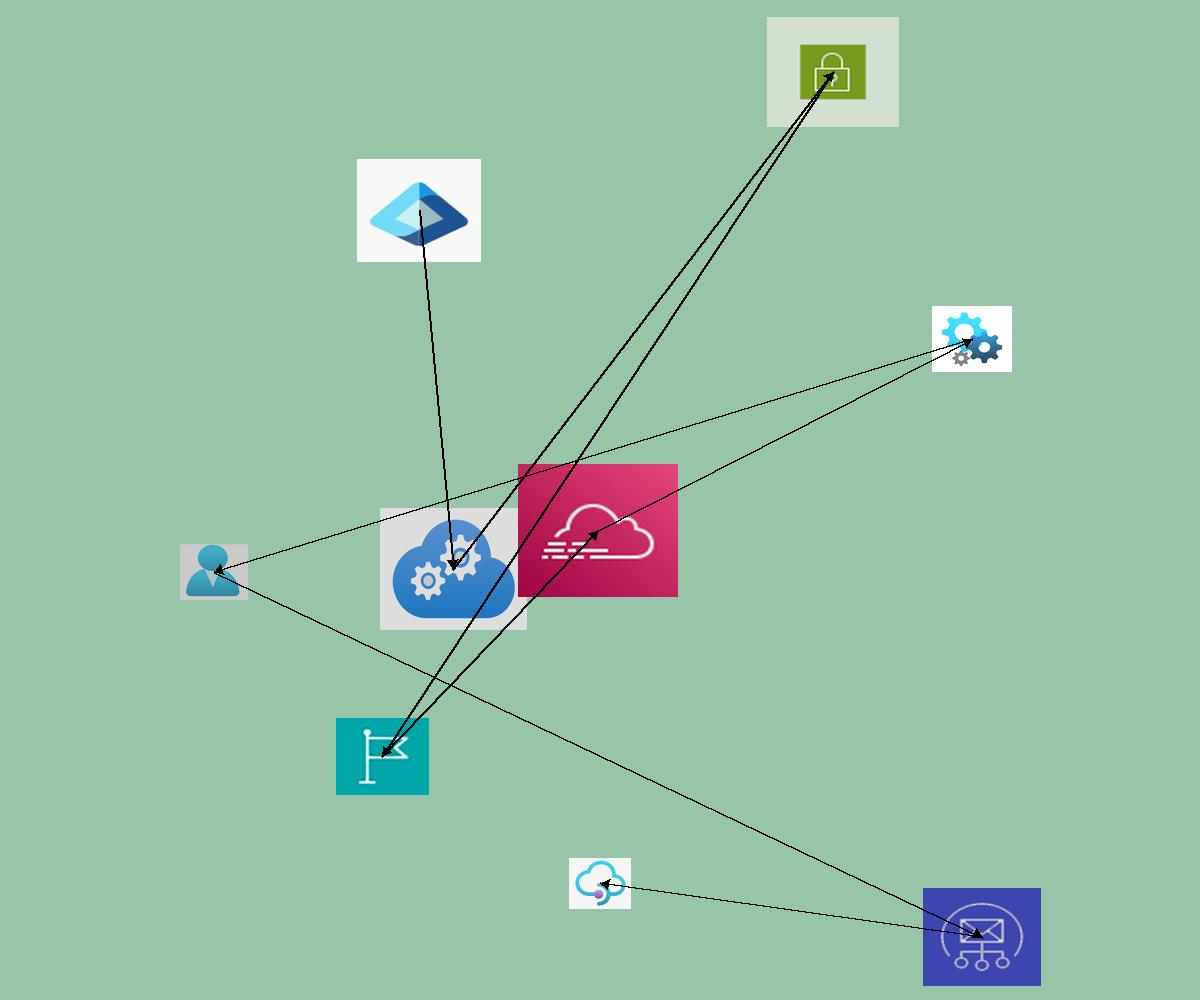AWS-CloudTrail: (518, 464, 678, 597)
AWS-Public-subnet: (767, 17, 899, 127)
AWS-Region: (336, 718, 429, 795)
AWS-Simple-Email-Service: (923, 888, 1041, 986)
Azure_api: (932, 306, 1012, 372)
Azure_api_gateway: (569, 858, 631, 909)
Azure_cloud_services: (380, 508, 527, 630)
Azure_microsoft_entra: (357, 159, 481, 262)
Azure_users: (180, 544, 248, 600)
